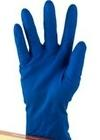gloves: (13, 1, 86, 139)
